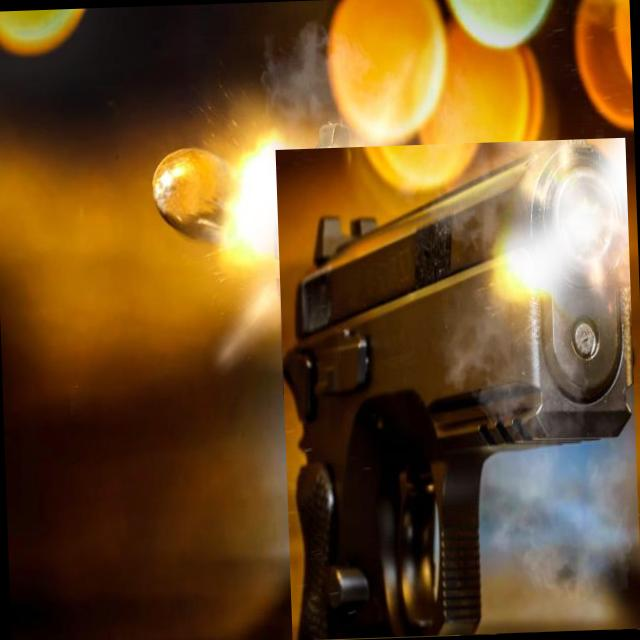Gun: (282, 139, 633, 640)
